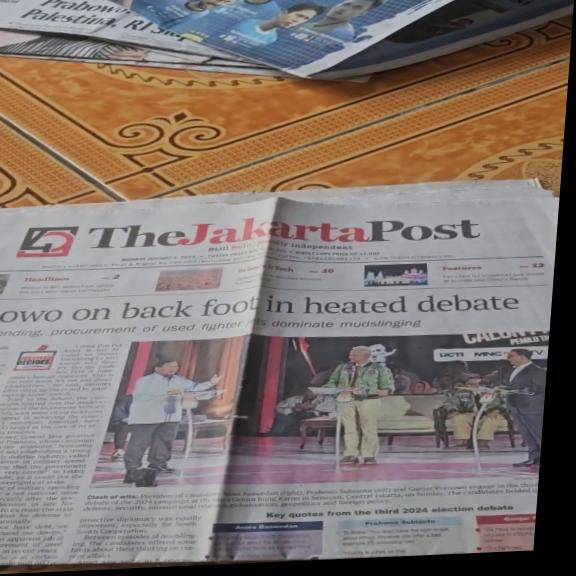Kertas: (0, 187, 551, 572)
